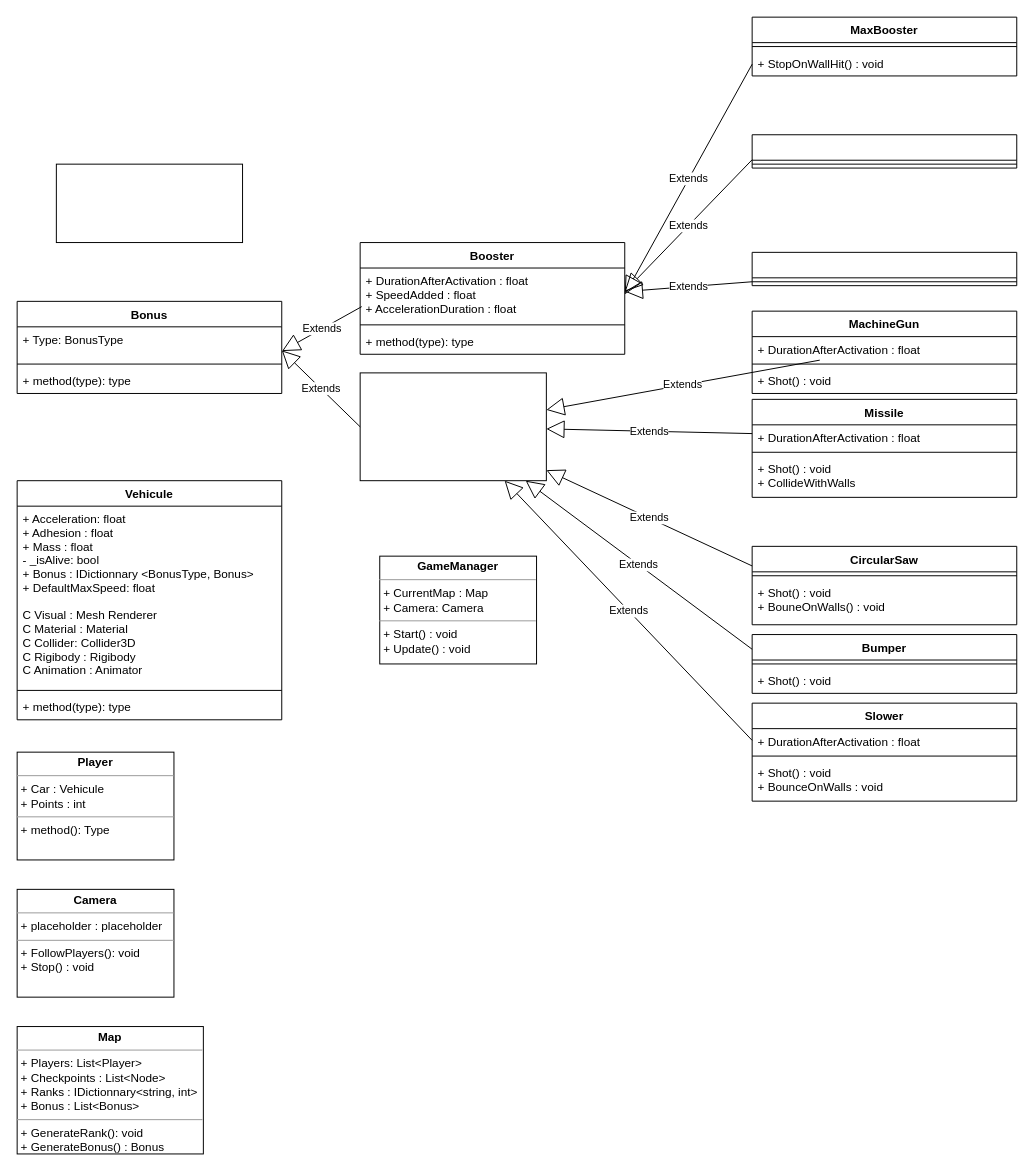
Image size: 1034x1171. Some labels were removed from this diagram. The shapes that lost their labels are listed below. From the top down, each one's centre as x and y in pixels, then its label:
At point (884, 151): "MidBooster".
At point (149, 203): "<<Enum>> BonusType + Booster: none + Offensive: none".
At point (884, 268): "MinBooster".
At point (452, 426): "<<Abstract>> Offensive + Speed: float + Direction : Vector3 + Shot() : void".
